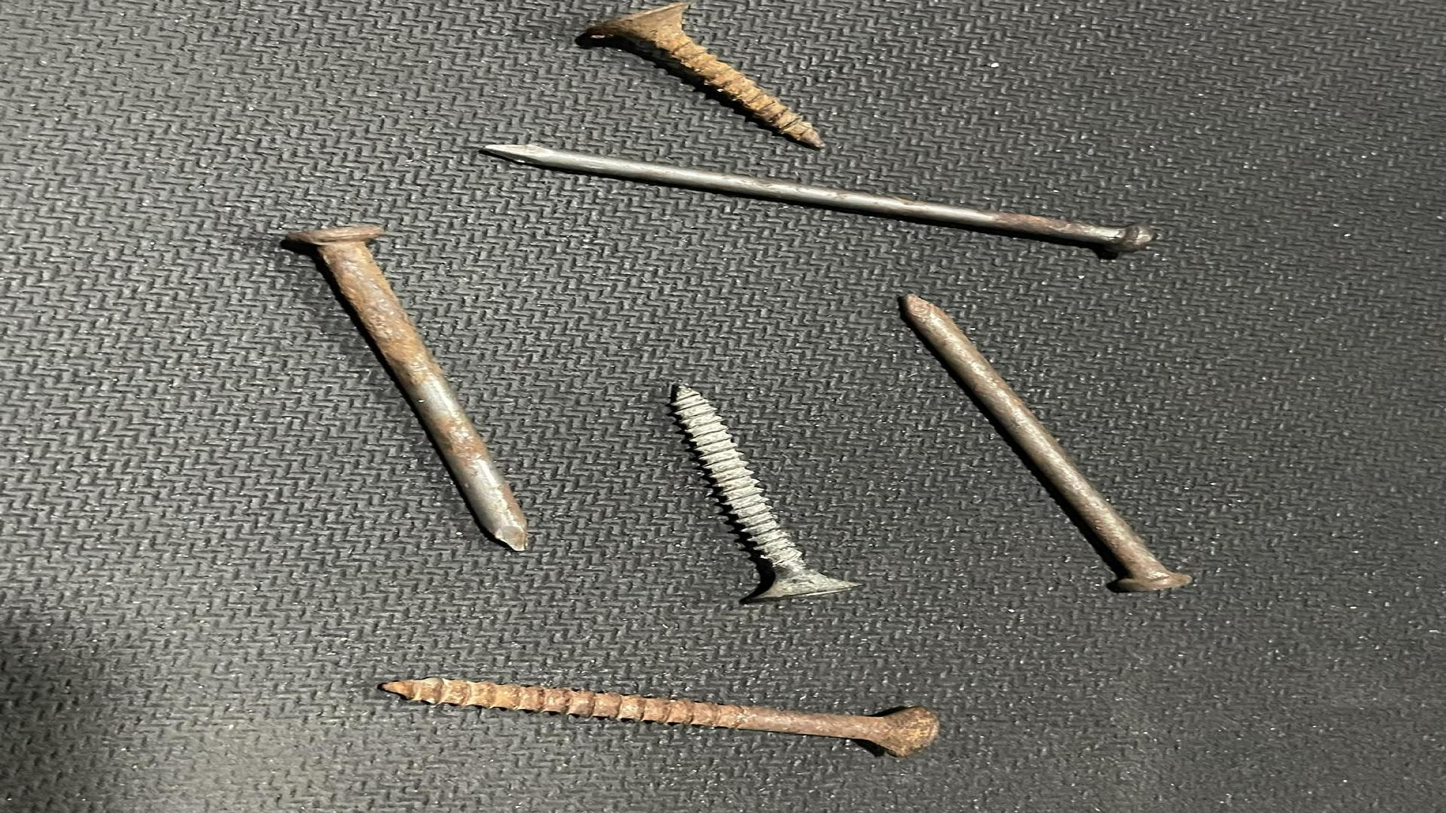nail: (841, 277, 1239, 609), (226, 204, 574, 566), (436, 118, 1218, 263)
screw: (336, 656, 976, 772), (634, 363, 876, 615), (543, 0, 920, 147)
